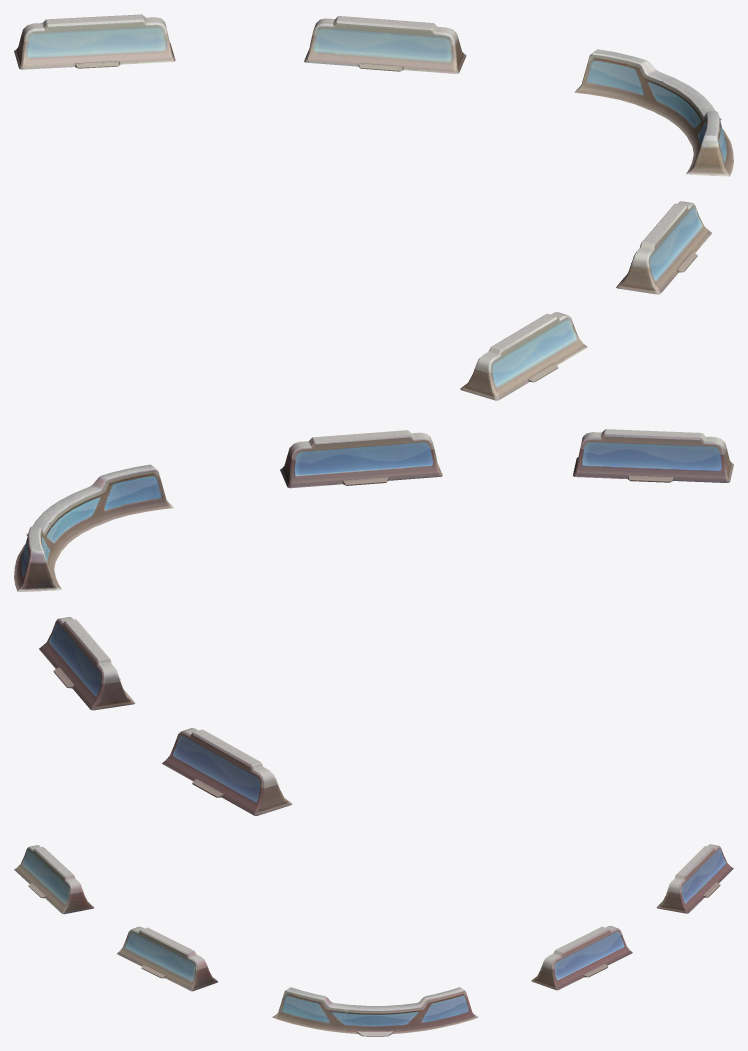
File: pref_sm_4v4beachtech_bk_centerblock_L01a_lv0.fbx
3 renders of one model, top to bottom at view 1: azimuth 30°, elevation 25°; view 2: azimuth 150°, elevation 25°; view 3: azimuth 270°, elevation 25°, orthographic. The views are drawn at different scales.
Visible parts, largest first — view 1: sm_4v4beachtech_bk_centerblock_L01a_lv0; view 2: sm_4v4beachtech_bk_centerblock_L01a_lv0; view 3: sm_4v4beachtech_bk_centerblock_L01a_lv0.
Boxes of the visible parts, x1=… form: sm_4v4beachtech_bk_centerblock_L01a_lv0: x1=14, y1=14, x2=733, y2=400; sm_4v4beachtech_bk_centerblock_L01a_lv0: x1=14, y1=429, x2=733, y2=815; sm_4v4beachtech_bk_centerblock_L01a_lv0: x1=14, y1=844, x2=733, y2=1036.
Bounding box in the file's own units: 22.24 × 1.64 × 38.87.
Materials: 1 (1 with a texture image).
